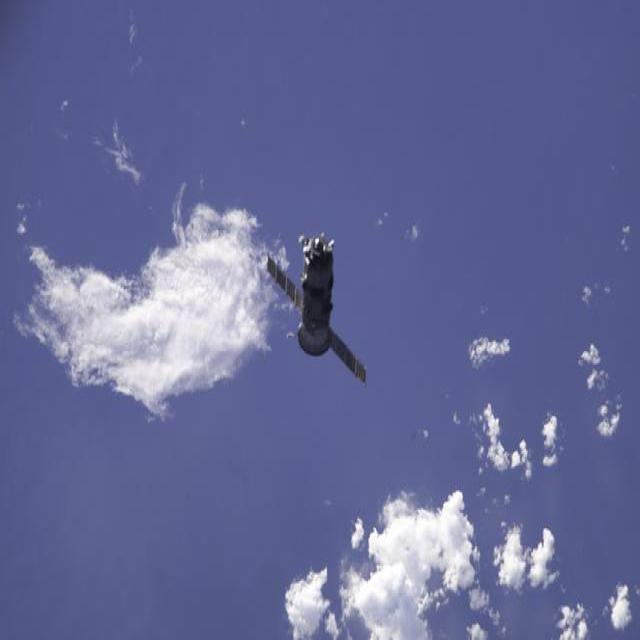satellite: (268, 235, 366, 381)
